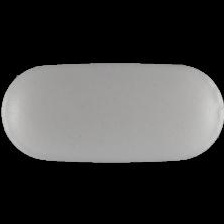0093-5509: (0, 0, 224, 224)
